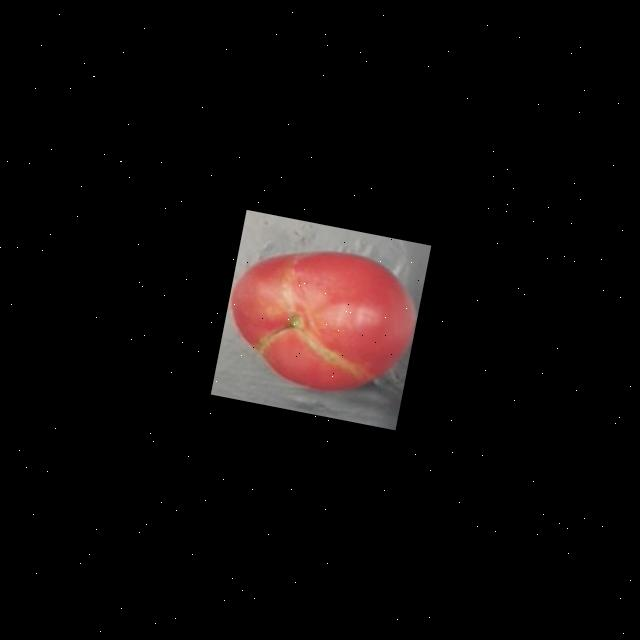tomato: (214, 232, 426, 408)
